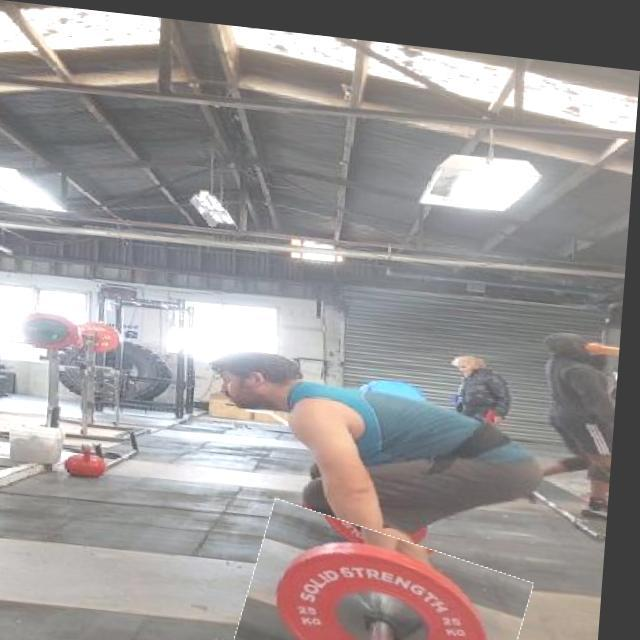barbell: (249, 503, 539, 640)
